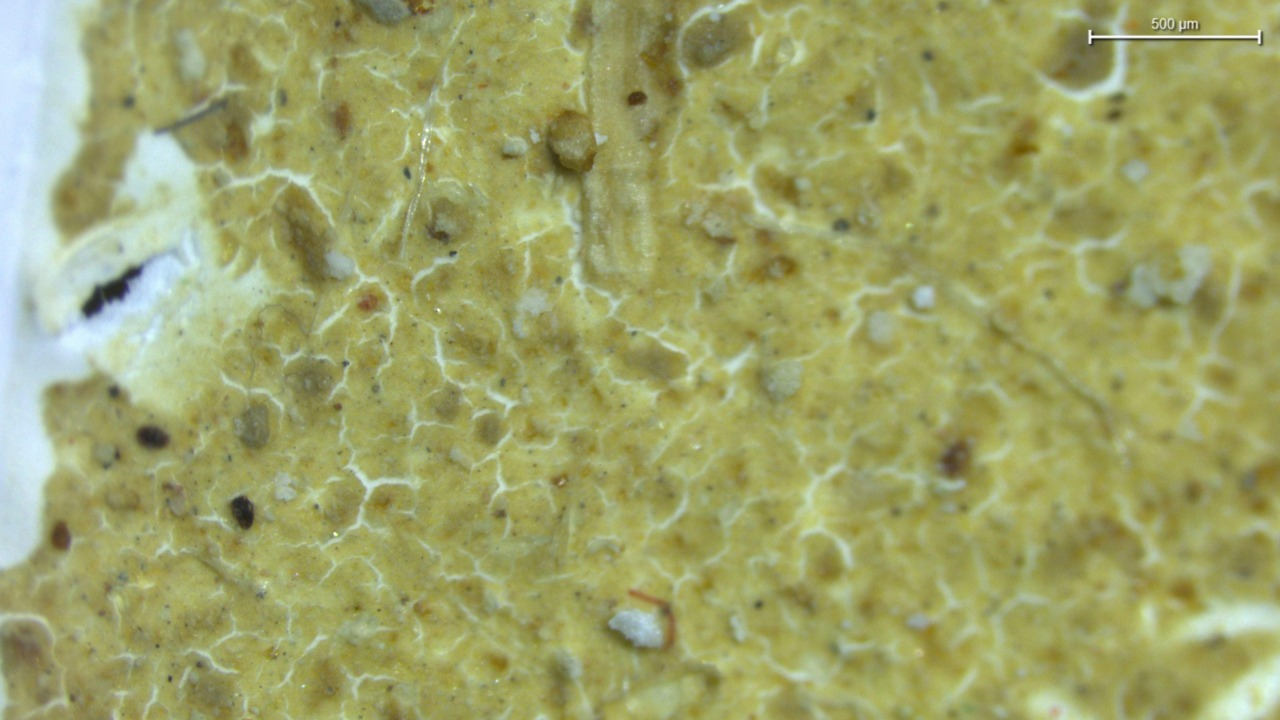microplastic_fragment: (546, 111, 597, 173), (608, 608, 663, 648)
